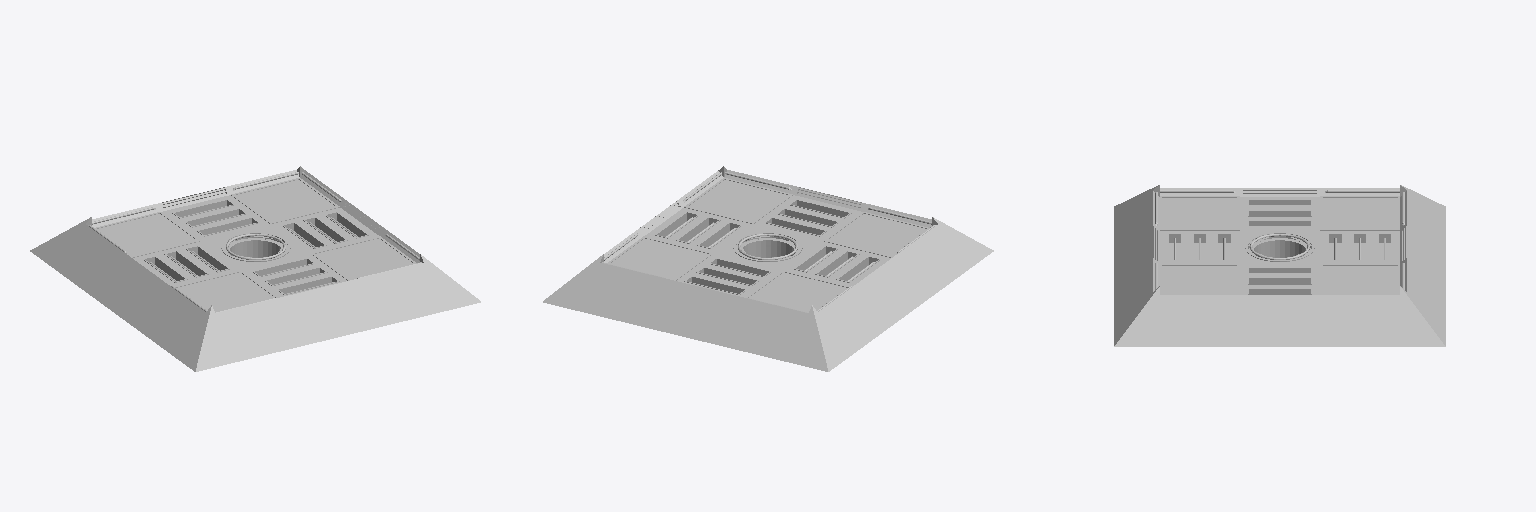
Rendered from WallZero2.obj.
3 views of the same model, side by side, from view 1: azimuth 30°, elevation 25°; view 2: azimuth 150°, elevation 25°; view 3: azimuth 270°, elevation 25° (orthographic).
Visible parts, largest first — view 1: Wall_Cube.001; view 2: Wall_Cube.001; view 3: Wall_Cube.001, Panel_Cube.002.
Boxes of the visible parts, x1,y1,x2,y2 form: Wall_Cube.001: [30, 166, 480, 371]; Wall_Cube.001: [543, 166, 993, 371]; Wall_Cube.001: [1114, 185, 1445, 346]; Panel_Cube.002: [1169, 243, 1390, 259].
Size of the model in its own units: 2.48 by 0.34 by 2.48.